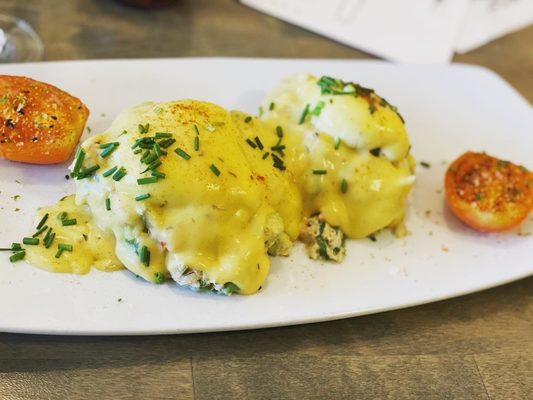curry: (3, 1, 530, 400)
